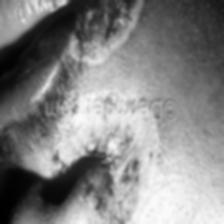Toxin: (54, 125, 170, 224), (83, 0, 139, 58)
